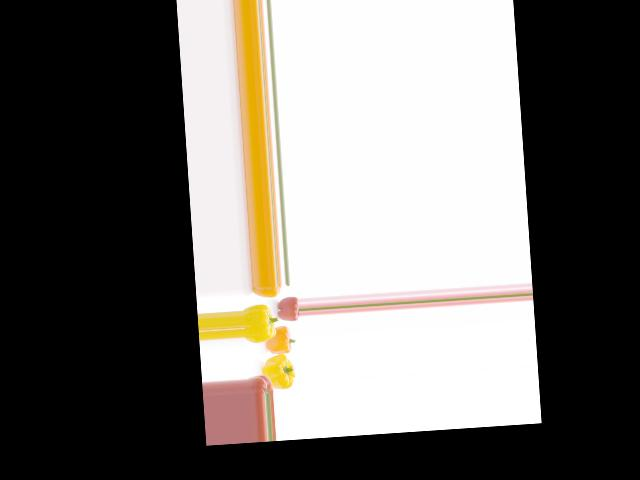bell_pepper: (251, 283, 283, 300)
